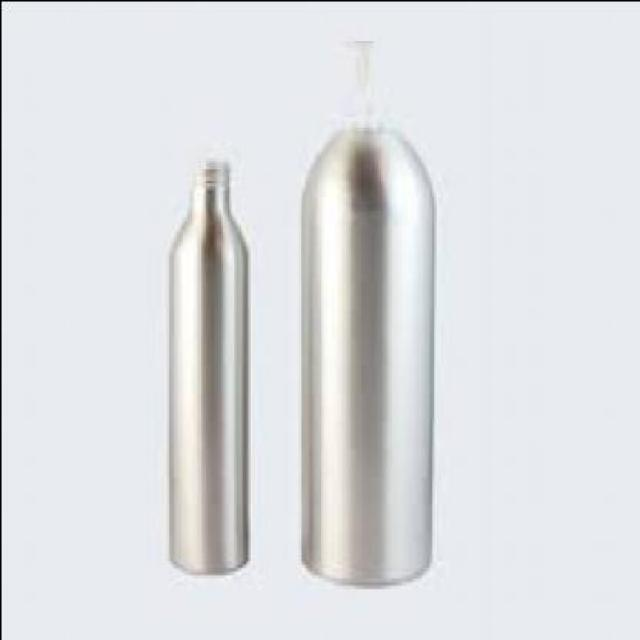METAL: (295, 31, 428, 584), (163, 161, 245, 573)
